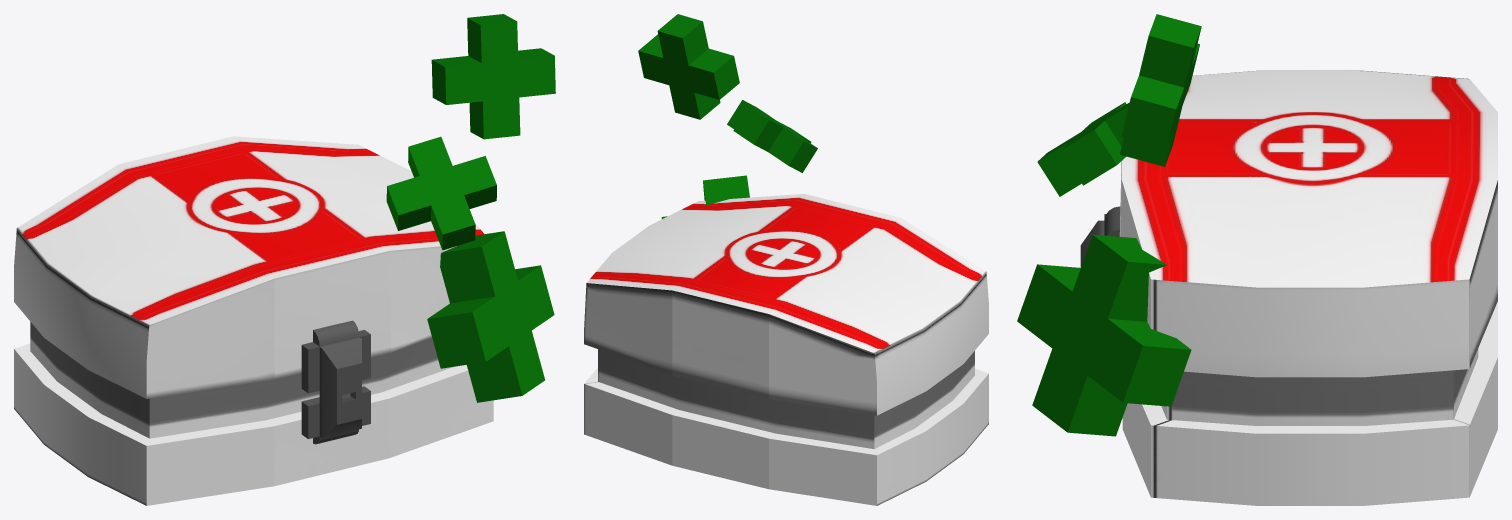
File: item_heal.obj
The picture shows the model from 3 angles, left to right: view 1: azimuth 30°, elevation 25°; view 2: azimuth 150°, elevation 25°; view 3: azimuth 270°, elevation 25°; orthographic projection. The views are drawn at different scales.
Parts seen in each view (by area): view 1: pCube1, pCube3, pCube5, pCube4, pCube2; view 2: pCube1, pCube5, pCube4, pCube3; view 3: pCube1, pCube3, pCube5, pCube4, pCube2.
Boxes of the visible parts, x1,y1,x2,y2 form: pCube1: (14,136,493,505); pCube3: (427,231,554,402); pCube5: (431,14,555,139); pCube4: (386,136,496,250); pCube2: (301,320,370,444); pCube1: (584,194,988,505); pCube5: (638,14,739,119); pCube4: (727,100,817,172); pCube3: (661,175,749,218); pCube1: (1119,70,1497,505); pCube3: (1017,234,1191,436); pCube5: (1120,14,1201,166); pCube4: (1037,102,1129,196); pCube2: (1080,206,1120,267).
Size of the model in its own units: 3.65 by 3.42 by 3.02.
3 materials, 1 textured.
